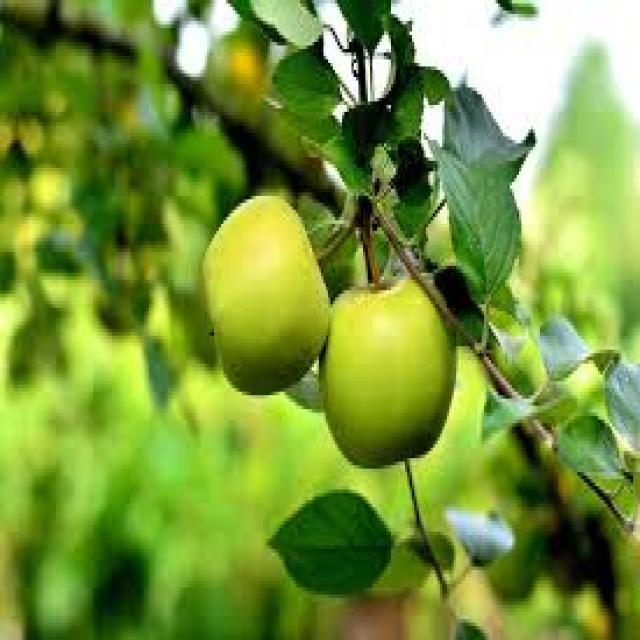apple: (321, 279, 456, 467), (203, 196, 329, 394)
